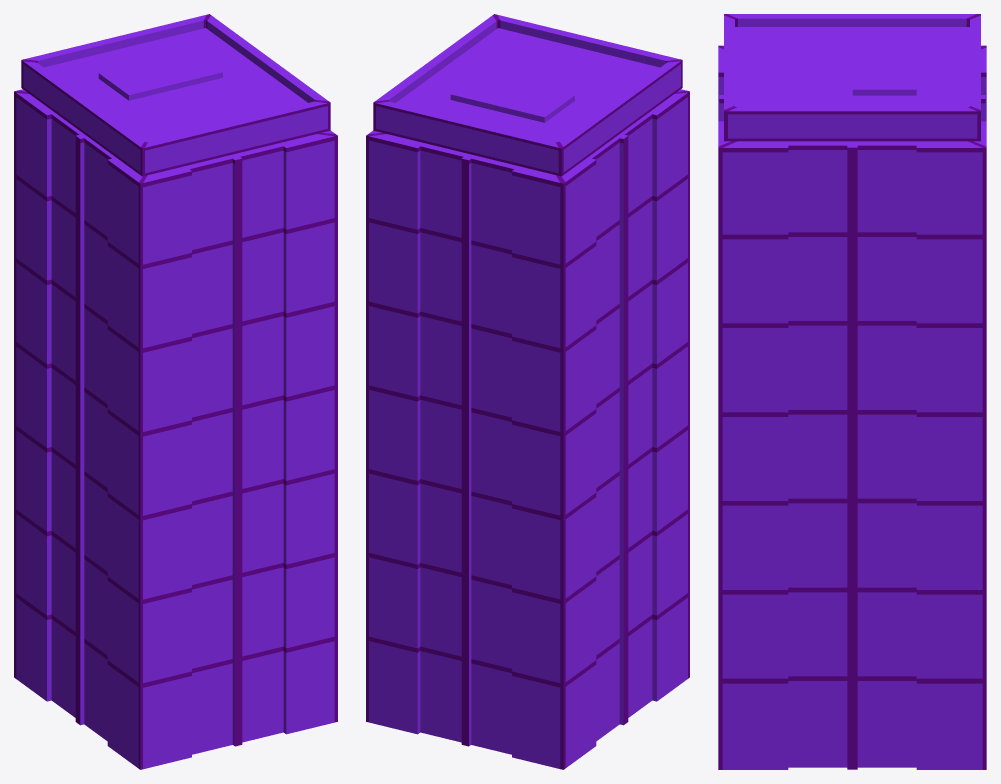
File: Building1.fbx
3 renders of one model, left to right at view 1: azimuth 30°, elevation 25°; view 2: azimuth 150°, elevation 25°; view 3: azimuth 270°, elevation 25°, orthographic. The views are drawn at different scales.
Parts seen in each view (by area): view 1: Building1; view 2: Building1; view 3: Building1.
Part boxes in pixels (<box>): Building1: <box>14,14,337,769</box>; Building1: <box>366,14,689,769</box>; Building1: <box>718,14,986,769</box>.
Bounding box in the file's own units: 40.92 × 122 × 45.34.
